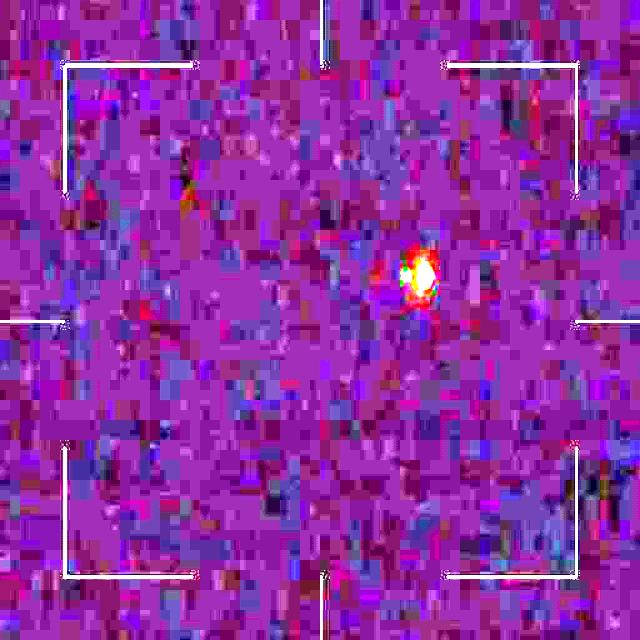bird: (399, 256, 439, 308)
